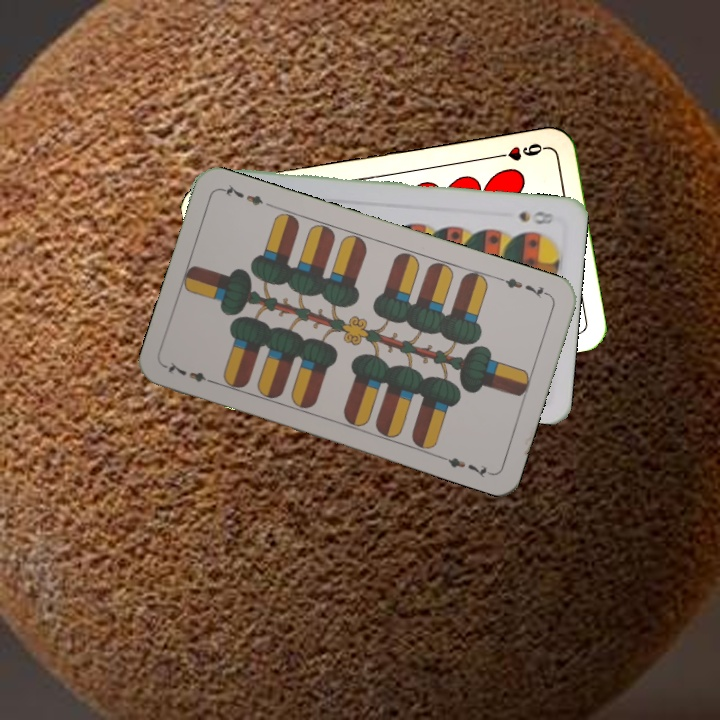E7: (162, 357, 219, 387), (495, 273, 552, 300)
H9: (491, 139, 550, 164)
S8: (514, 207, 557, 227)
